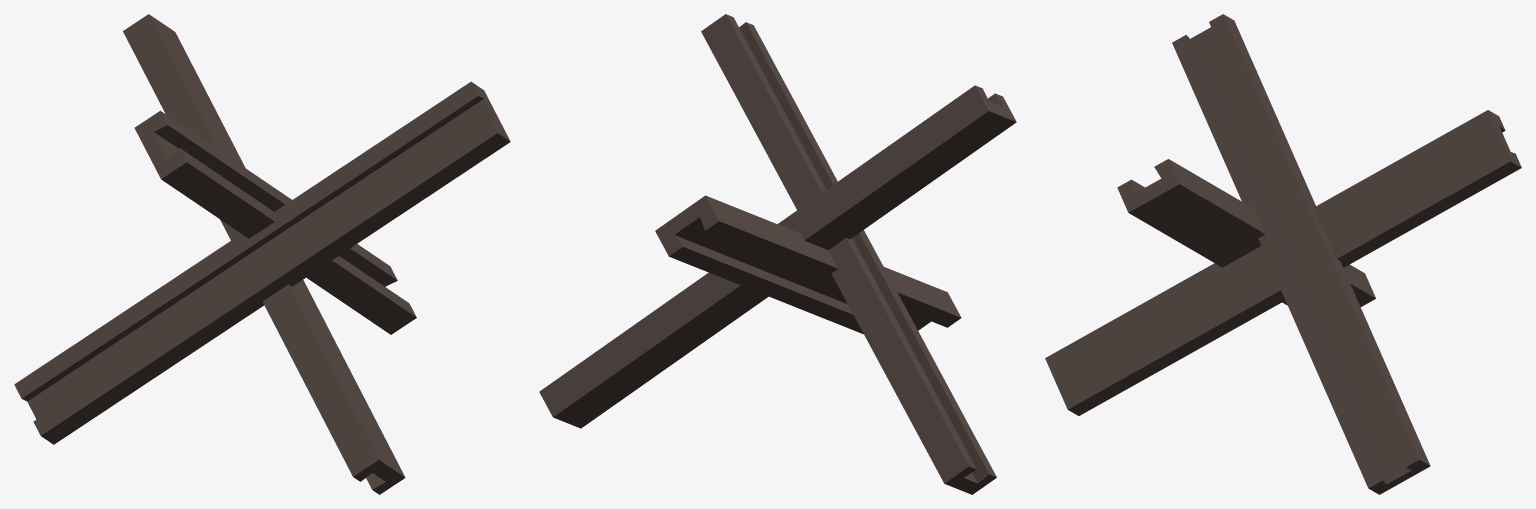
Rendered from hedgehog_001.glb.
The picture shows the model from 3 angles, left to right: view 1: azimuth 30°, elevation 25°; view 2: azimuth 150°, elevation 25°; view 3: azimuth 270°, elevation 25°; orthographic projection. The views are drawn at different scales.
Visible parts, largest first — view 1: hedgehog_001; view 2: hedgehog_001; view 3: hedgehog_001.
Boxes of the visible parts, x1,y1,x2,y2 form: hedgehog_001: [14, 14, 510, 494]; hedgehog_001: [539, 14, 1016, 494]; hedgehog_001: [1045, 14, 1521, 494].
Size of the model in its own units: 1.45 by 1.23 by 1.58.
1 material, 1 textured.
